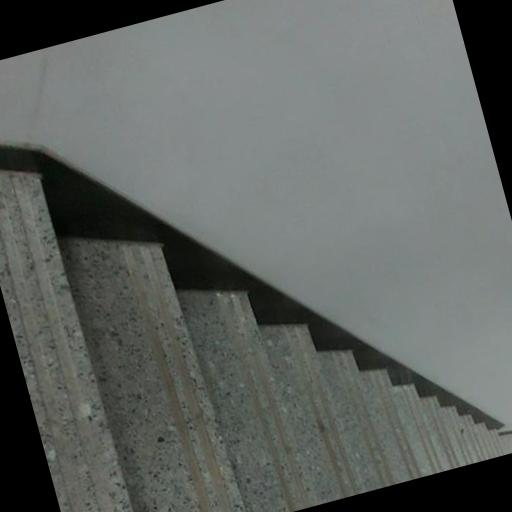stairs: (0, 172, 501, 511)
